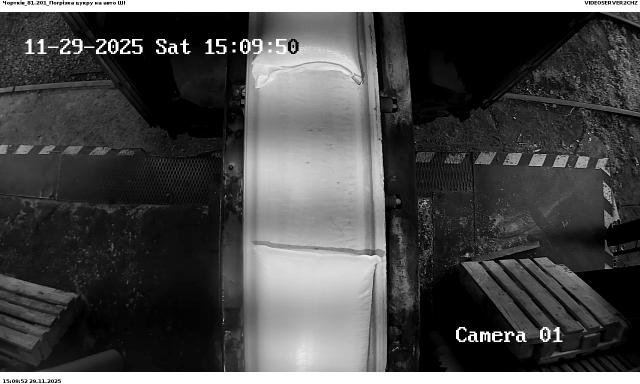bag: (250, 243, 382, 373), (251, 12, 362, 88)
